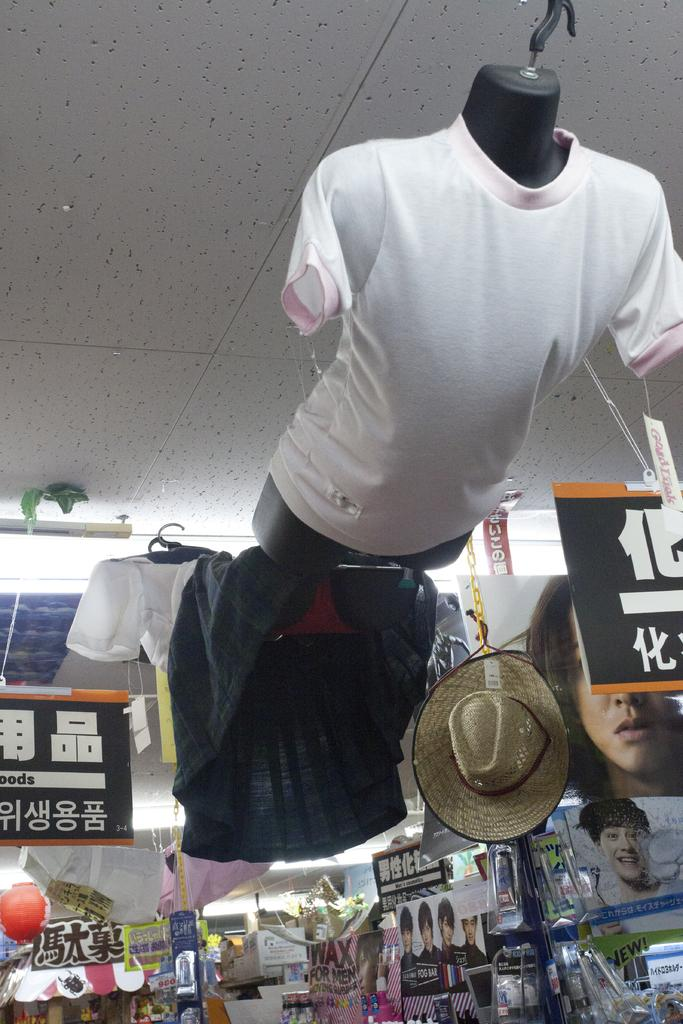Hat: (410, 641, 574, 846)
